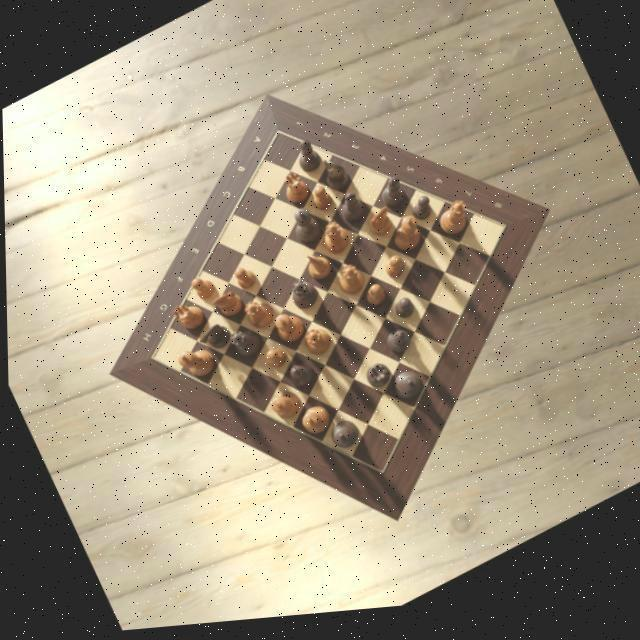chess-table-corners: (134, 339, 169, 375), (360, 456, 394, 492), (484, 220, 516, 256), (261, 124, 297, 155)
